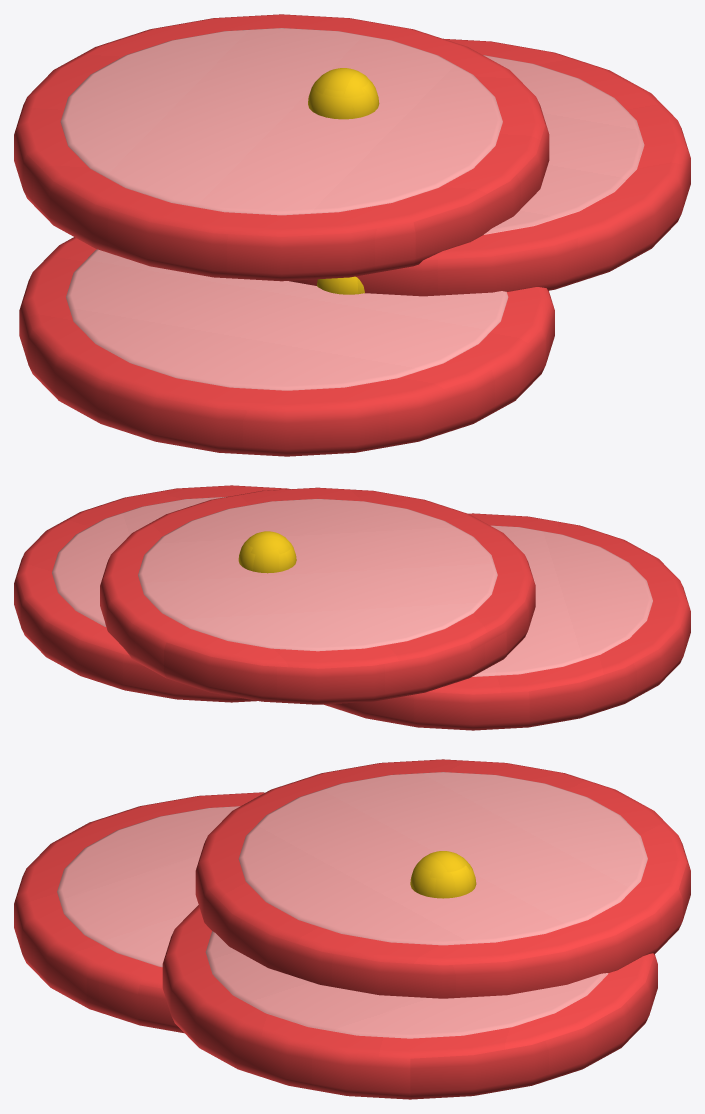
The model's file is tomato_sliced.glb.
3 renders of one model, top to bottom at view 1: azimuth 30°, elevation 25°; view 2: azimuth 150°, elevation 25°; view 3: azimuth 270°, elevation 25°, orthographic. The views are drawn at different scales.
Visible parts, largest first — view 1: TomSliceIn_2, TomSliceRim_2, TomSliceRim_0, TomSliceIn_0, TomSliceRim_1, TomSliceIn_1, TomSeed_2, TomSeed_0; view 2: TomSliceIn_2, TomSliceRim_2, TomSliceRim_0, TomSliceIn_0, TomSliceRim_1, TomSliceIn_1, TomSeed_2; view 3: TomSliceIn_2, TomSliceRim_2, TomSliceRim_1, TomSliceIn_0, TomSliceRim_0, TomSliceIn_1, TomSeed_2.
Part boxes in pixels (x1,y1,x2,y2): TomSliceIn_2: [60, 28, 502, 215]; TomSliceRim_2: [14, 14, 549, 281]; TomSliceRim_0: [19, 237, 554, 456]; TomSliceIn_0: [66, 249, 508, 390]; TomSliceRim_1: [289, 38, 690, 296]; TomSliceIn_1: [483, 55, 644, 234]; TomSeed_2: [308, 68, 379, 119]; TomSeed_0: [317, 276, 364, 294]; TomSliceIn_2: [138, 498, 497, 651]; TomSliceRim_2: [100, 487, 535, 704]; TomSliceRim_0: [324, 513, 690, 730]; TomSliceIn_0: [472, 525, 652, 676]; TomSliceRim_1: [14, 485, 290, 702]; TomSliceIn_1: [52, 496, 227, 626]; TomSeed_2: [238, 531, 296, 573]; TomSliceIn_2: [238, 772, 647, 945]; TomSliceRim_2: [195, 759, 690, 998]; TomSliceRim_1: [162, 905, 657, 1099]; TomSliceIn_0: [57, 806, 240, 967]; TomSliceRim_0: [14, 792, 264, 1033]; TomSliceIn_1: [205, 931, 608, 1038]; TomSeed_2: [410, 851, 476, 898].
Bounding box in the file's own units: 0.44 × 0.1055 × 0.41.
3 materials, 3 textured.
